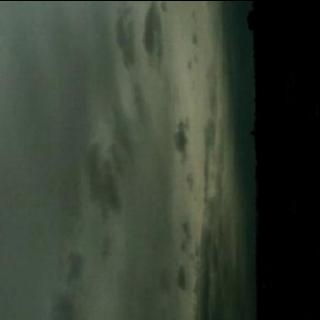Stratocumulus: (0, 0, 255, 320)
